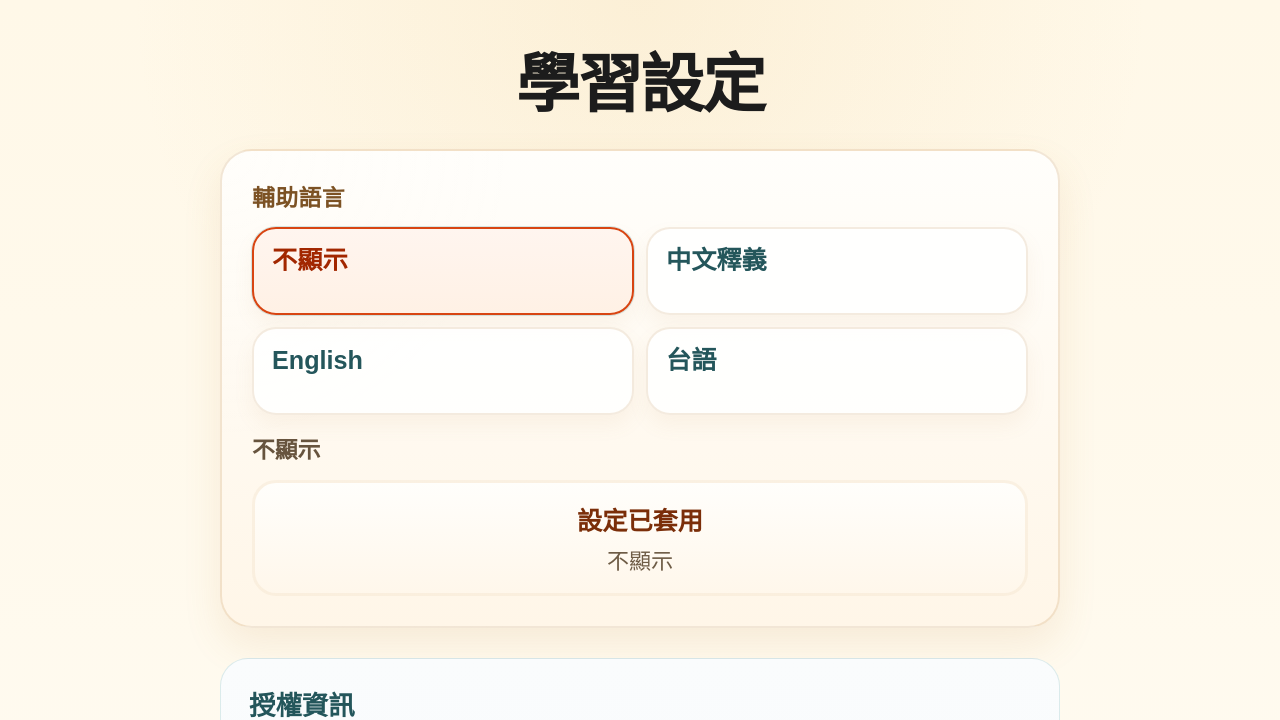
Test case: SettingsPage › previews the save instruction in the selected language before applying
Click the button "English" at (317, 360), box [252, 327, 634, 415]
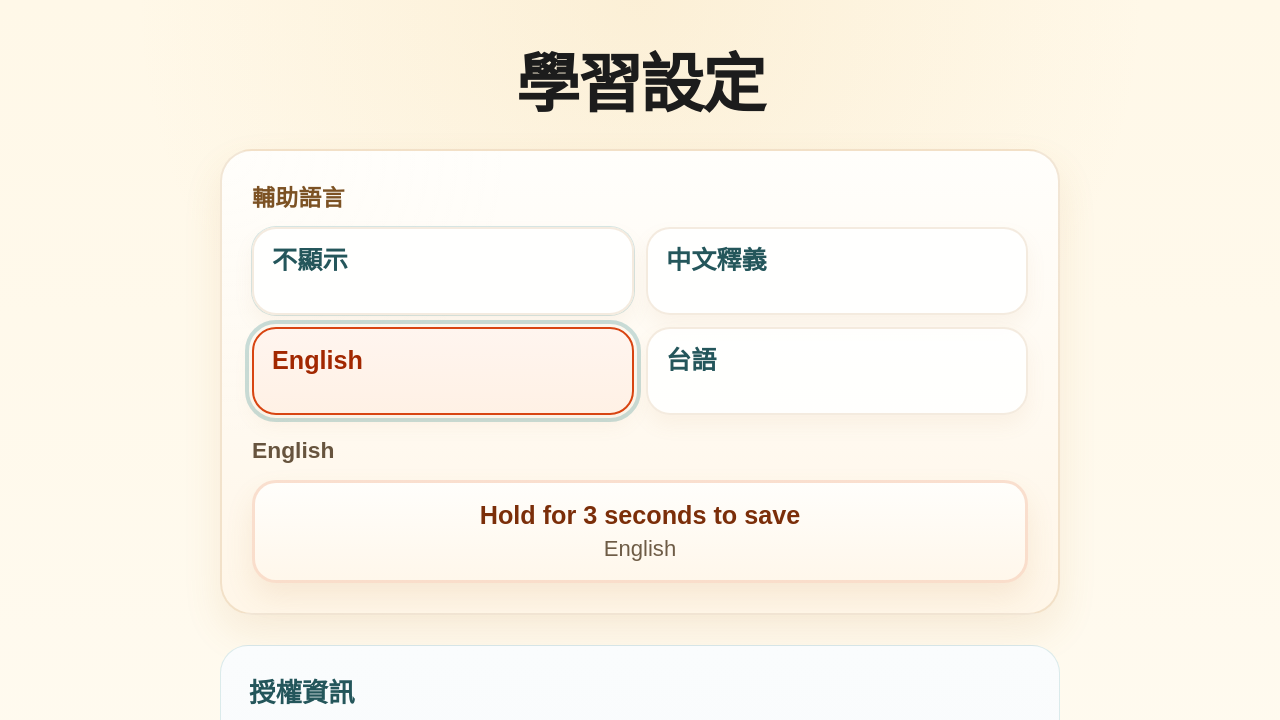
Result: the text "Hold for 3 seconds to save" is shown at [480, 501, 800, 530]
